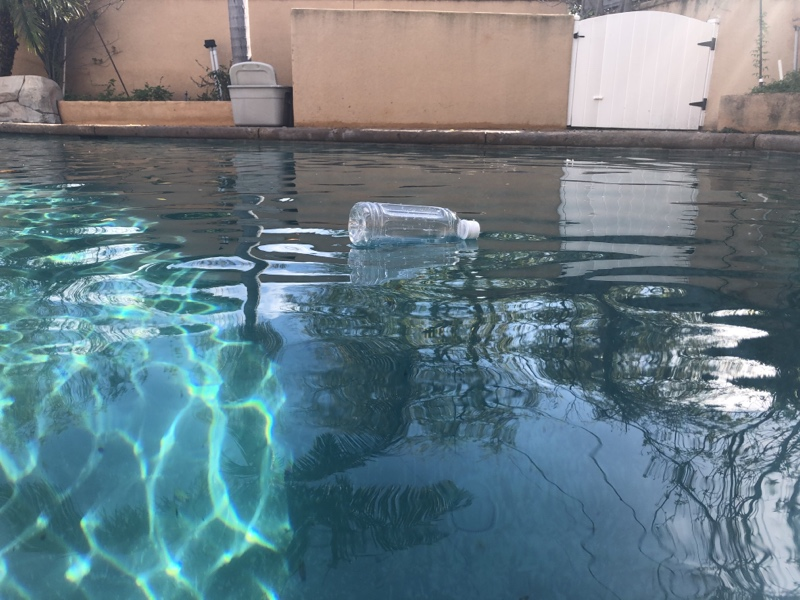Plastic Bottle: (346, 198, 482, 255)
